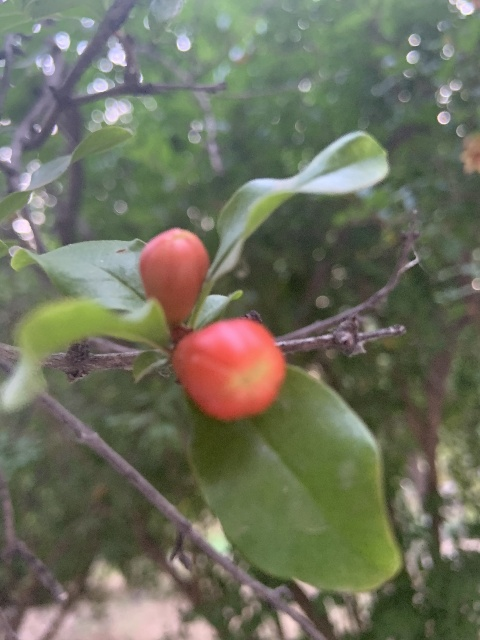bud: (172, 317, 286, 422), (138, 227, 210, 326)
